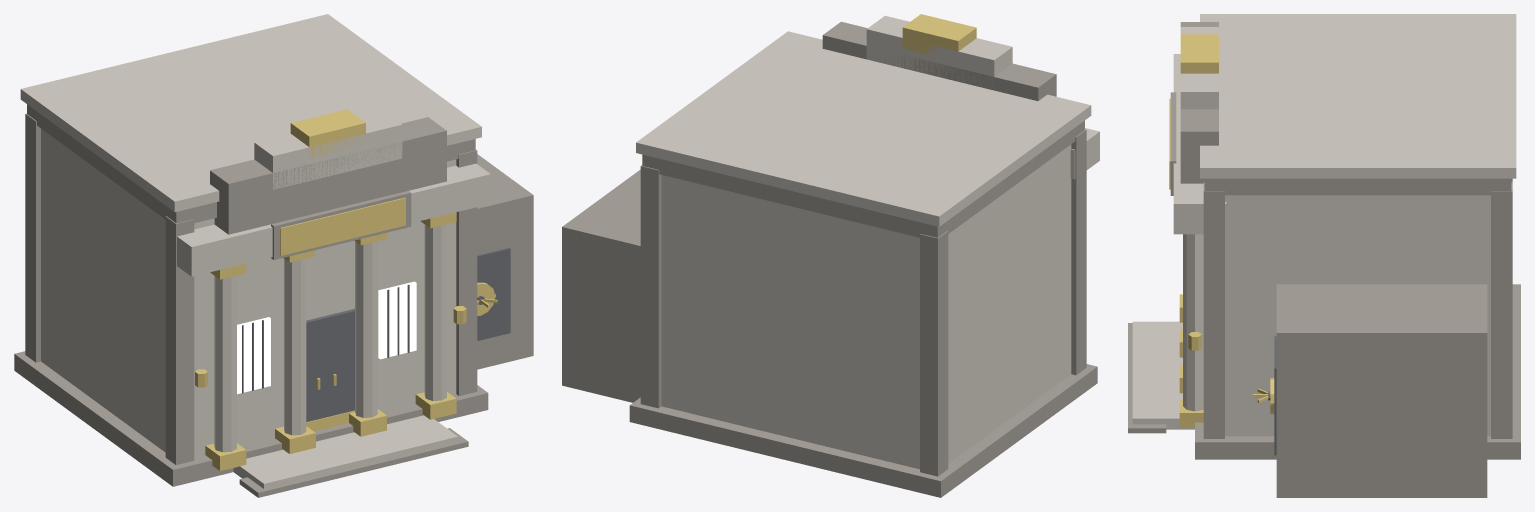
The model's file is bank.glb.
The picture shows the model from 3 angles, left to right: view 1: azimuth 30°, elevation 25°; view 2: azimuth 150°, elevation 25°; view 3: azimuth 270°, elevation 25°; orthographic projection. The views are drawn at different scales.
Parts seen in each view (by area): view 1: bank; view 2: bank; view 3: bank.
Boxes of the visible parts, x1,y1,x2,y2 form: bank: (14,14,533,497); bank: (562,14,1099,497); bank: (1128,14,1520,497).
Bounding box in the file's own units: 9.9 × 7.66 × 8.2.
